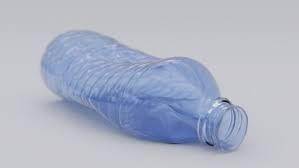plastic: (39, 28, 244, 152)
